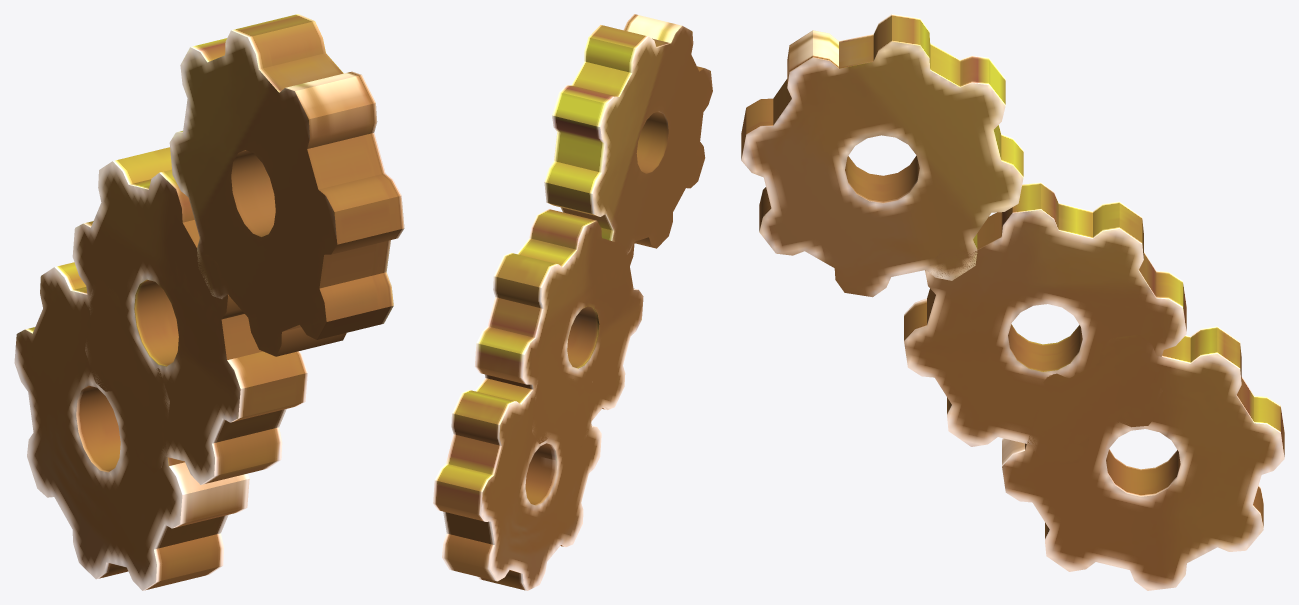
Rendered from animacion_maquinaria_ext.fbx.
3 views of the same model, side by side, from view 1: azimuth 30°, elevation 25°; view 2: azimuth 150°, elevation 25°; view 3: azimuth 270°, elevation 25° (orthographic). The views are drawn at different scales.
Parts seen in each view (by area): view 1: pGear1, pGear2, pGear3; view 2: pGear1, pGear3, pGear2; view 3: pGear1, pGear2, pGear3.
Part boxes in pixels (x1,y1,x2,y2): pGear1: (169, 14, 404, 356); pGear2: (72, 147, 307, 484); pGear3: (14, 262, 249, 590); pGear1: (544, 14, 712, 254); pGear3: (433, 361, 601, 590); pGear2: (475, 209, 643, 448); pGear1: (741, 14, 1023, 297); pGear2: (904, 182, 1186, 464); pGear3: (1002, 326, 1284, 590).
Bounding box in the file's own units: 43.01 × 400 × 358.
